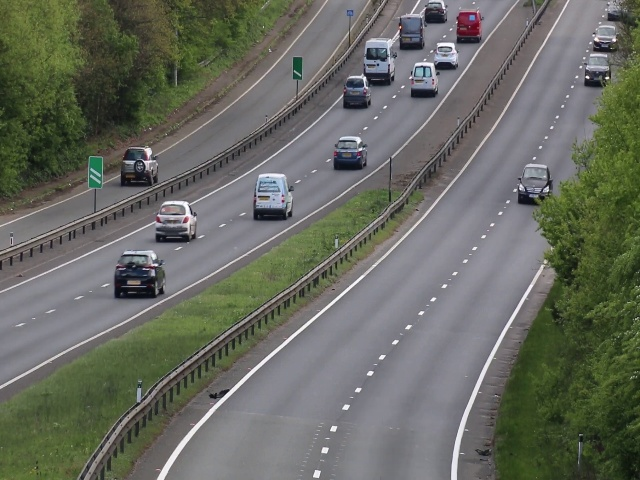car: (113, 250, 166, 299), (251, 172, 294, 220), (154, 200, 196, 244), (361, 37, 397, 86), (120, 144, 159, 187), (518, 160, 552, 207), (332, 135, 368, 172), (398, 10, 427, 52), (407, 63, 439, 97), (342, 76, 373, 110), (456, 9, 484, 42), (584, 54, 611, 87), (433, 42, 460, 71), (590, 23, 619, 50), (423, 1, 449, 22)
